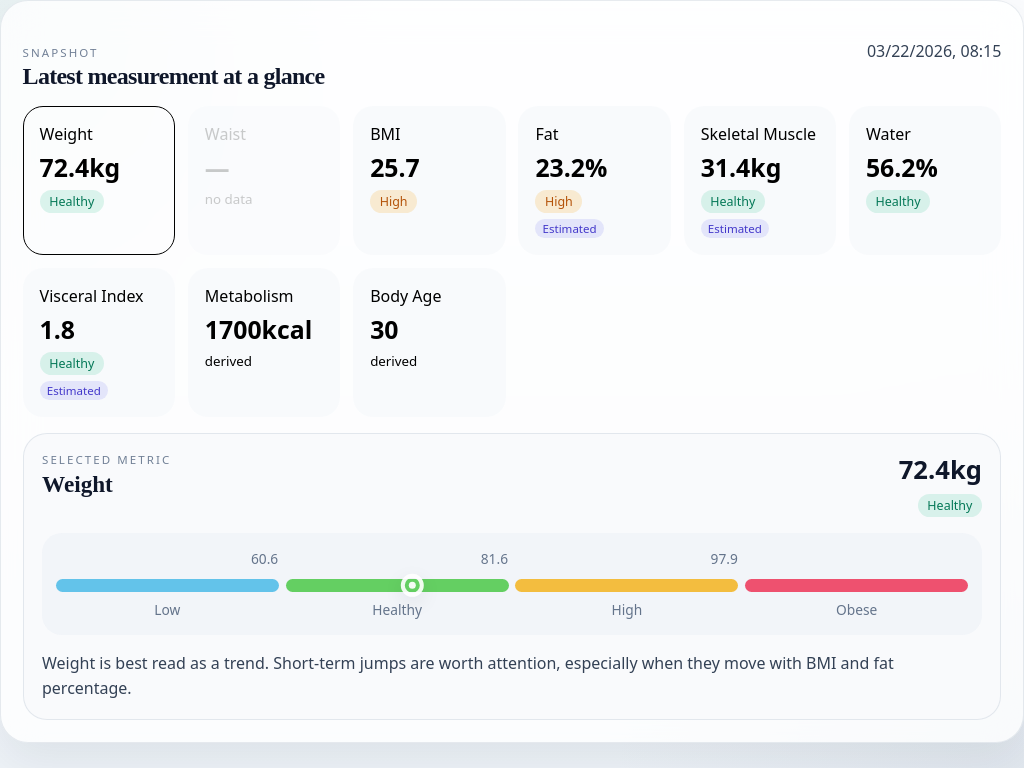
Test: MetricPanel › shows an estimated indicator and provenance copy for anthropometric values
The image size is (1024, 768).
Click the button "Fat 23.2% high Estimated" at (595, 180), box [518,106,671,255]
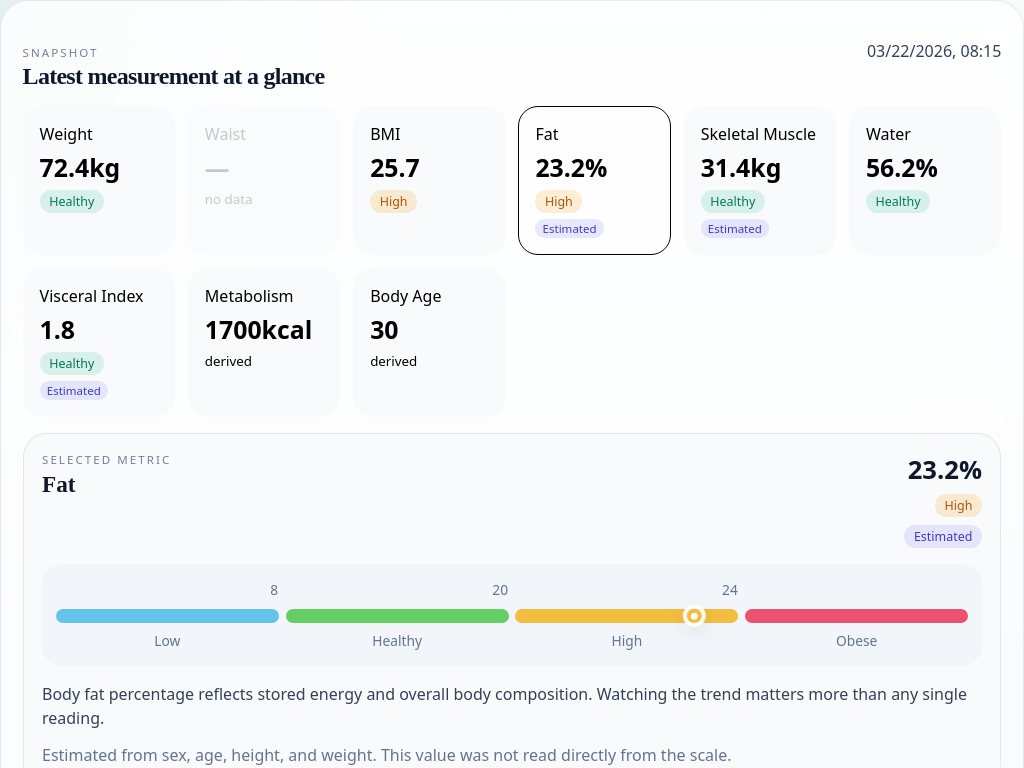
Check: the 1st text "Estimated" is shown, box [535,219,604,238]
Check: the text "Estimated from sex, age, height, and weight. This value was not read directly from the scale." is shown, box [42,744,732,766]
